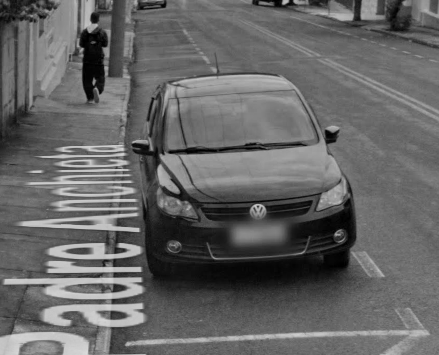car: (129, 50, 362, 281)
